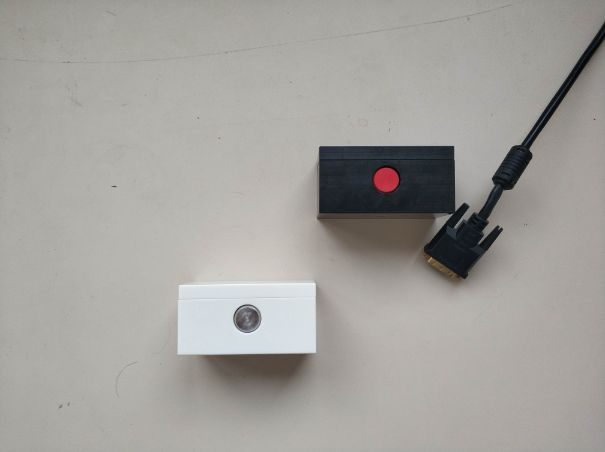black+black+red: (311, 143, 458, 220)
white+white+silver: (176, 282, 321, 358)
